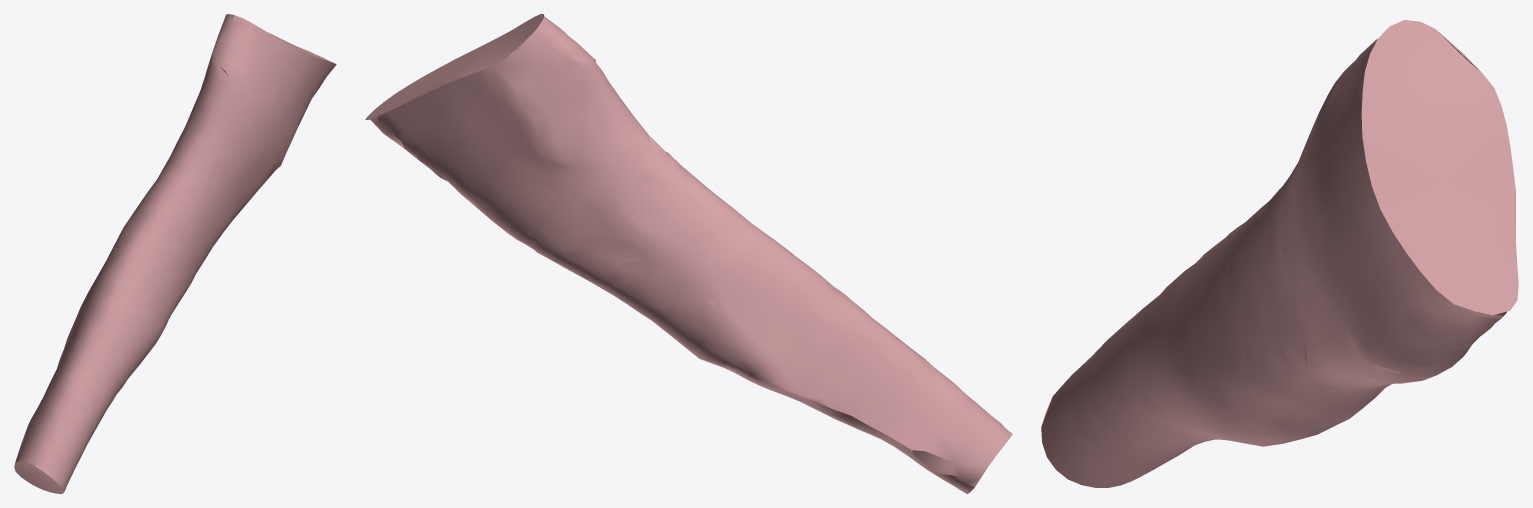
File: fma297824_mm1982.glb
3 views of the same model, side by side, from view 1: azimuth 30°, elevation 25°; view 2: azimuth 150°, elevation 25°; view 3: azimuth 270°, elevation 25° (orthographic). The views are drawn at different scales.
Parts seen in each view (by area): view 1: FMA297824_MM1982; view 2: FMA297824_MM1982; view 3: FMA297824_MM1982.
Part boxes in pixels (x1,y1,x2,y2): FMA297824_MM1982: (14, 14, 336, 493); FMA297824_MM1982: (365, 14, 1012, 493); FMA297824_MM1982: (1041, 20, 1518, 487).
Bounding box in the file's own units: 0.0286 × 0.0244 × 0.0147.
